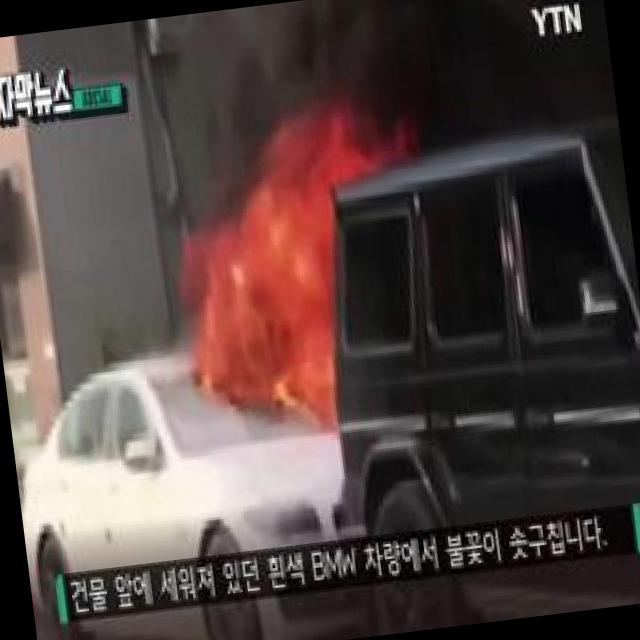Fire: (158, 113, 458, 450)
Smoke: (144, 0, 529, 139)
